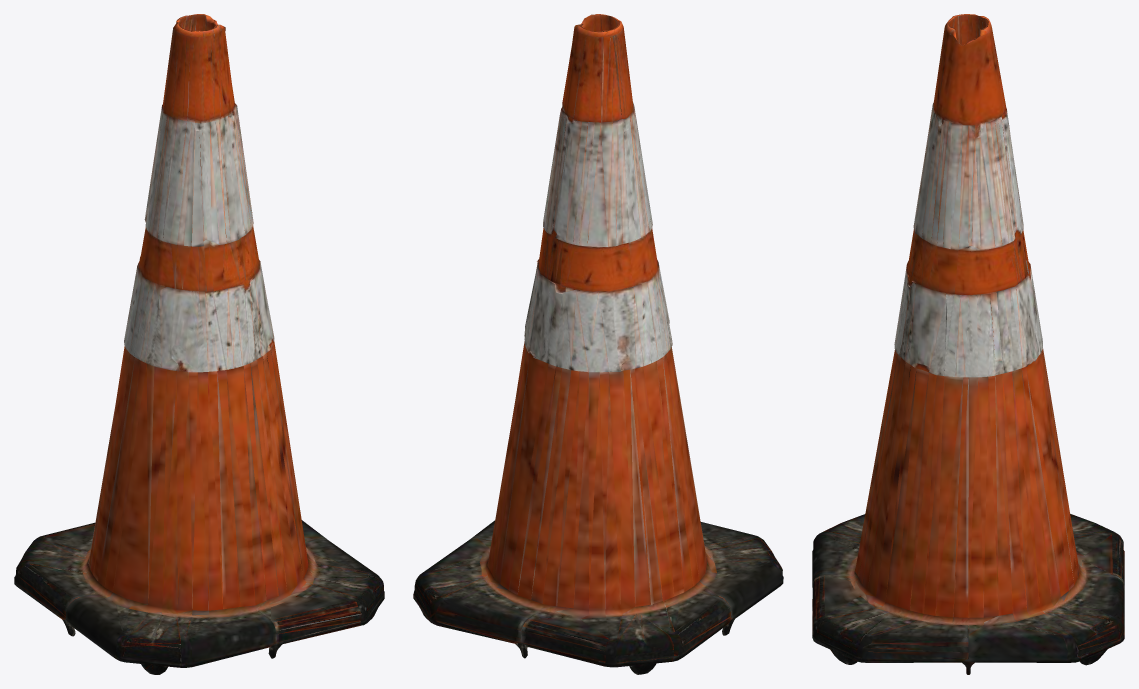
Rendered from prop_cone.glb.
The picture shows the model from 3 angles, left to right: view 1: azimuth 30°, elevation 25°; view 2: azimuth 150°, elevation 25°; view 3: azimuth 270°, elevation 25°; orthographic projection.
Size of the model in its own units: 0.4565 by 0.9512 by 0.4565.
Materials: 1 (1 with a texture image).
